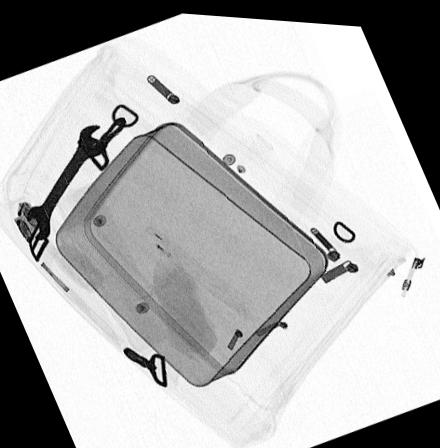Wrench: (24, 123, 110, 241)
